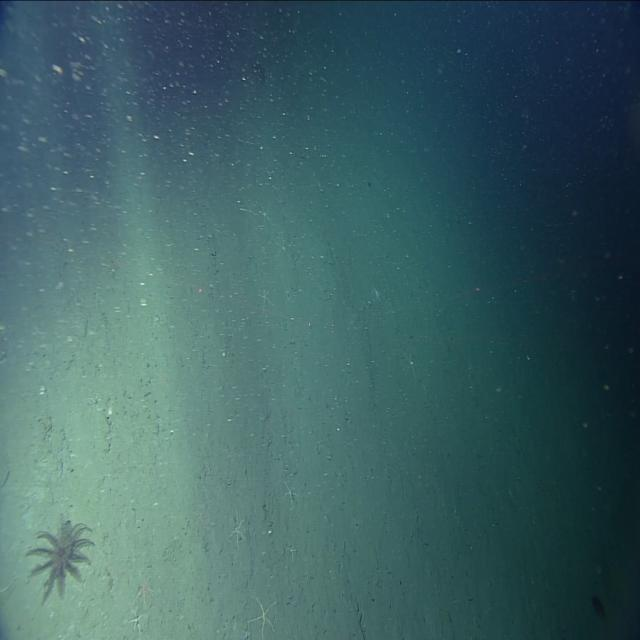Brittle Star: (248, 589, 280, 639), (132, 568, 158, 609), (226, 508, 250, 550), (279, 475, 301, 509), (401, 347, 421, 380)
Not Brittle Star: (24, 510, 98, 608)
